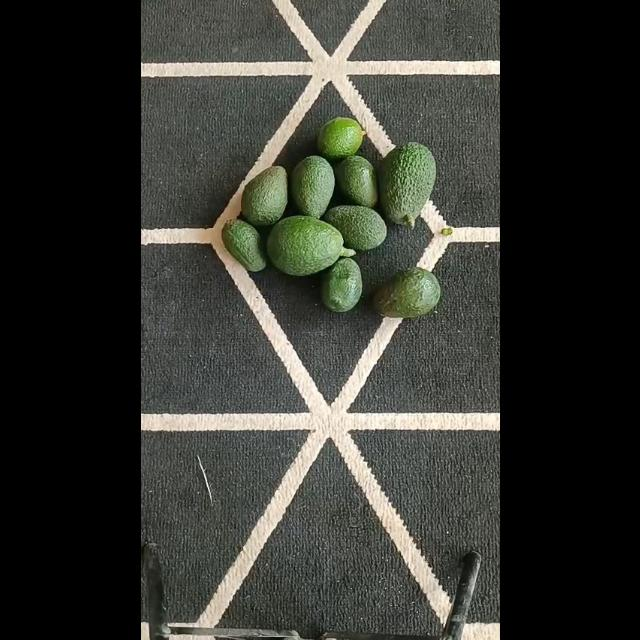Primera: (378, 141, 434, 227), (266, 216, 344, 276)
Segunda: (372, 268, 442, 318), (239, 165, 287, 227), (289, 154, 335, 218), (322, 205, 386, 251)
Tercera: (332, 154, 378, 208), (220, 218, 264, 272), (321, 258, 362, 312), (316, 116, 364, 162)
